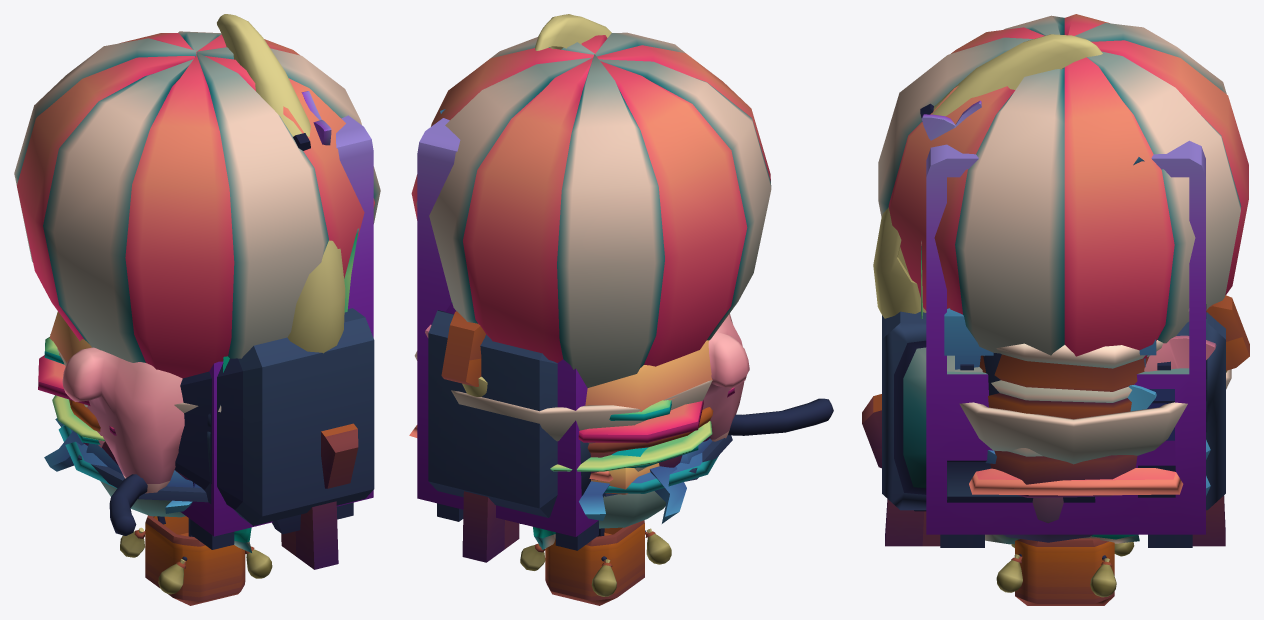
The model's file is 29ModelsFinished.fbx.
3 views of the same model, side by side, from view 1: azimuth 30°, elevation 25°; view 2: azimuth 150°, elevation 25°; view 3: azimuth 270°, elevation 25° (orthographic). The views are drawn at different scales.
Parts seen in each view (by area): view 1: HotAirBalloon, OldTv, AlpacePlushie, CrescentMoon, VendingMachine1, Fence, FallafelBurger, DeskLamp, ZombieTurtle, FlowerHat, RobotHead; view 2: HotAirBalloon, OldTv, VendingMachine1, FallafelBurger, Fence, MushroomSoup, AlpacePlushie, DeskLamp, ZombieTurtle, CrescentMoon, RobotHead, FlowerHat; view 3: HotAirBalloon, VendingMachine1, BirthdayCake, OldTv, CrescentMoon, MushroomSoup, Fence, Traffic_Cone, BirthdayPresent, Succulent, CrispBag.
Boxes of the visible parts, left/top/right/bottom form: HotAirBalloon: left=14, top=31, right=380, bottom=605; OldTv: left=174, top=133, right=374, bottom=534; AlpacePlushie: left=62, top=347, right=184, bottom=493; CrescentMoon: left=217, top=14, right=345, bottom=353; VendingMachine1: left=171, top=115, right=373, bottom=549; Fence: left=281, top=423, right=358, bottom=569; FallafelBurger: left=38, top=311, right=181, bottom=441; DeskLamp: left=77, top=443, right=208, bottom=535; ZombieTurtle: left=44, top=418, right=192, bottom=513; FlowerHat: left=58, top=425, right=117, bottom=488; RobotHead: left=100, top=481, right=185, bottom=517; HotAirBalloon: left=411, top=32, right=771, bottom=605; OldTv: left=428, top=310, right=557, bottom=523; VendingMachine1: left=417, top=118, right=598, bottom=550; FallafelBurger: left=550, top=340, right=734, bottom=494; Fence: left=441, top=311, right=519, bottom=562; MushroomSoup: left=414, top=351, right=712, bottom=443; AlpacePlushie: left=702, top=313, right=749, bottom=441; DeskLamp: left=440, top=109, right=833, bottom=496; ZombieTurtle: left=579, top=445, right=698, bottom=523; CrescentMoon: left=425, top=14, right=611, bottom=396; RobotHead: left=599, top=491, right=665, bottom=528; FlowerHat: left=604, top=453, right=718, bottom=493; HotAirBalloon: left=878, top=14, right=1248, bottom=605; VendingMachine1: left=921, top=140, right=1206, bottom=547; BirthdayCake: left=979, top=340, right=1163, bottom=497; OldTv: left=882, top=103, right=1225, bottom=511; CrescentMoon: left=873, top=34, right=1227, bottom=411; MushroomSoup: left=959, top=369, right=1231, bottom=464; Fence: left=862, top=295, right=1249, bottom=546; Traffic_Cone: left=969, top=468, right=1183, bottom=495; BirthdayPresent: left=944, top=308, right=1156, bottom=369; Succulent: left=1003, top=497, right=1092, bottom=542; CrispBag: left=985, top=534, right=1139, bottom=544.
Bounding box in the file's own units: 2 × 3.34 × 2.03.
